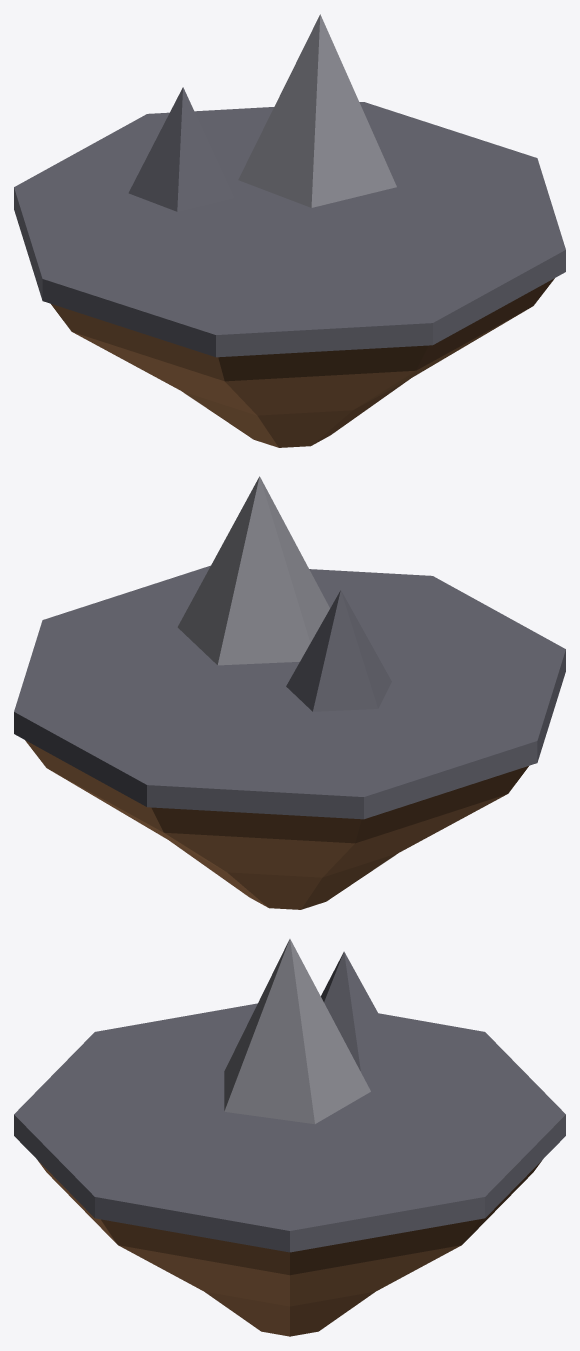
File: sky_island_rocky.glb
The picture shows the model from 3 angles, top to bottom: view 1: azimuth 30°, elevation 25°; view 2: azimuth 150°, elevation 25°; view 3: azimuth 270°, elevation 25°; orthographic projection. The views are drawn at different scales.
Visible parts, largest first — view 1: island_rocky; view 2: island_rocky; view 3: island_rocky.
Part boxes in pixels (x1,y1,x2,y2): island_rocky: (14,14,565,447); island_rocky: (14,476,565,909); island_rocky: (14,939,565,1336).
Size of the model in its own units: 8.16 by 6.45 by 8.16.
